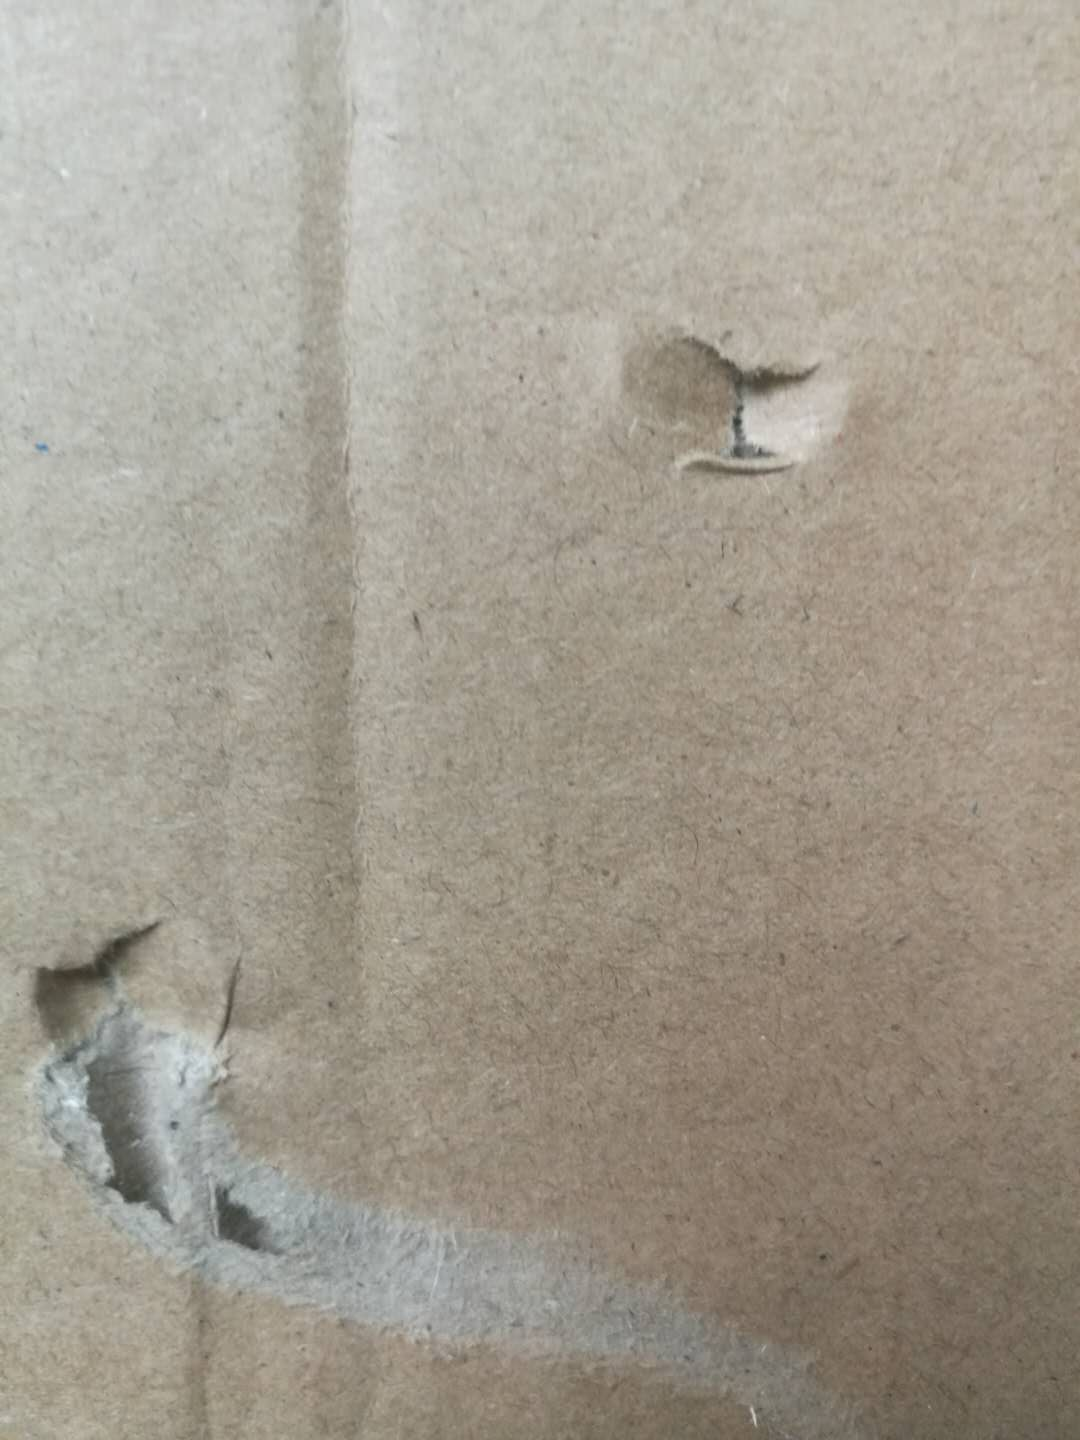defect: (1, 884, 936, 1440), (252, 5, 445, 1430), (557, 273, 883, 510)
